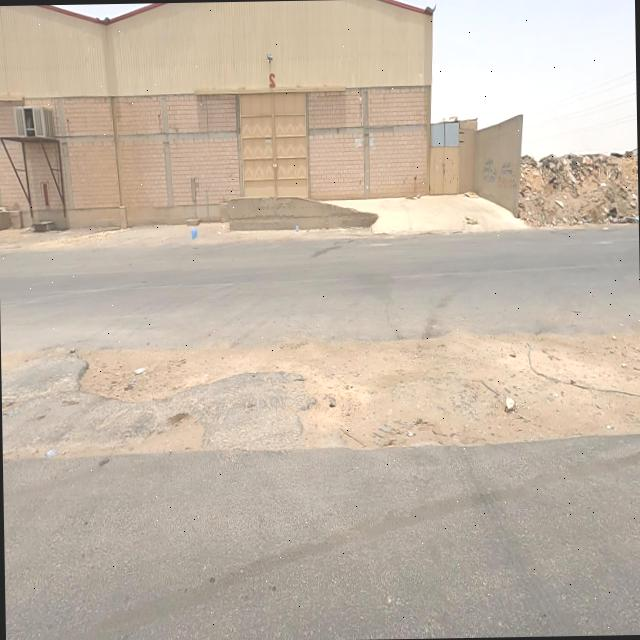Graffiti: (485, 155, 517, 194)
